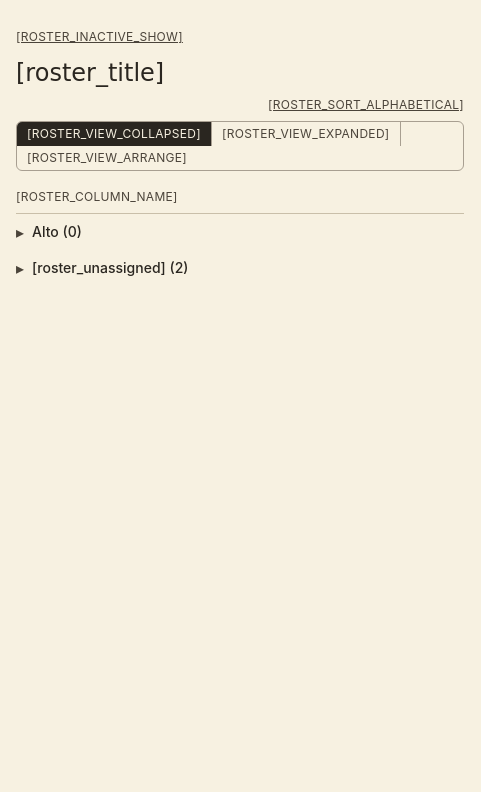
#1003 Invite and Resend send the invite by email › a refused send shows the plain error, sends one report, and no API text appears
Click the button "▸ [roster_unassigned] (2)": (110, 268) [16,250,464,286]
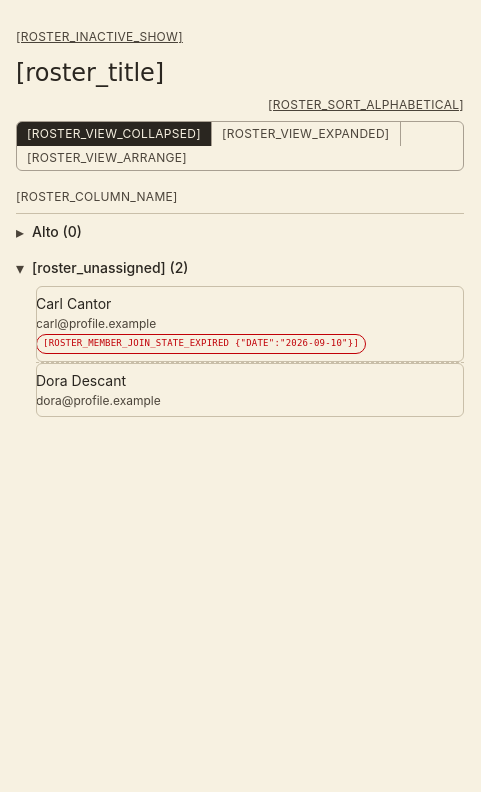
Click the button without text next to "dora@profile.example": (250, 390) [36,362,464,416]
(page scrolled)
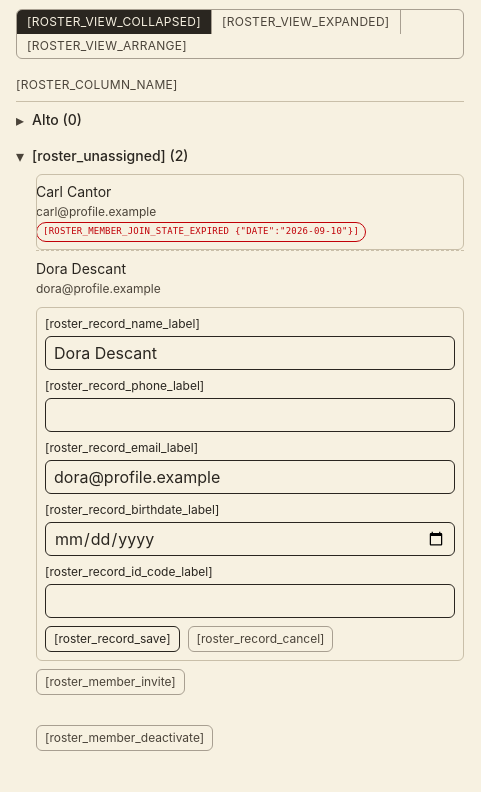
Click the button "[roster_member_invite]": (110, 682) [36,668,185,694]
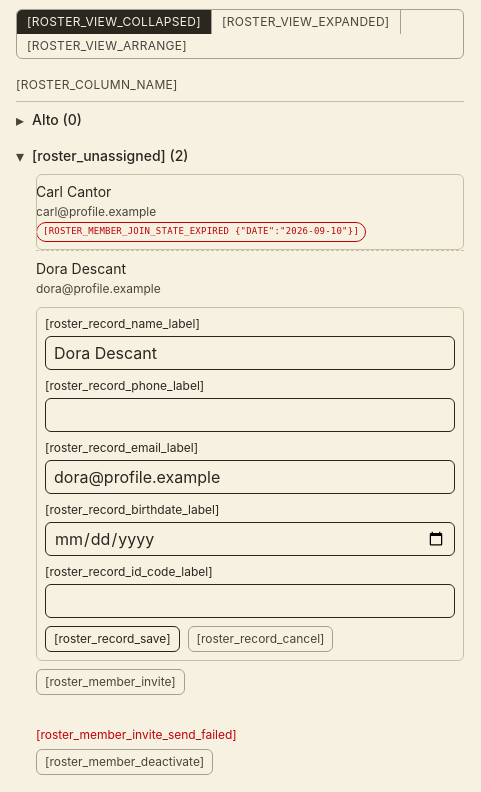
Result: the message "[roster_member_invite_send_failed]" is shown at [36,726,237,742]
